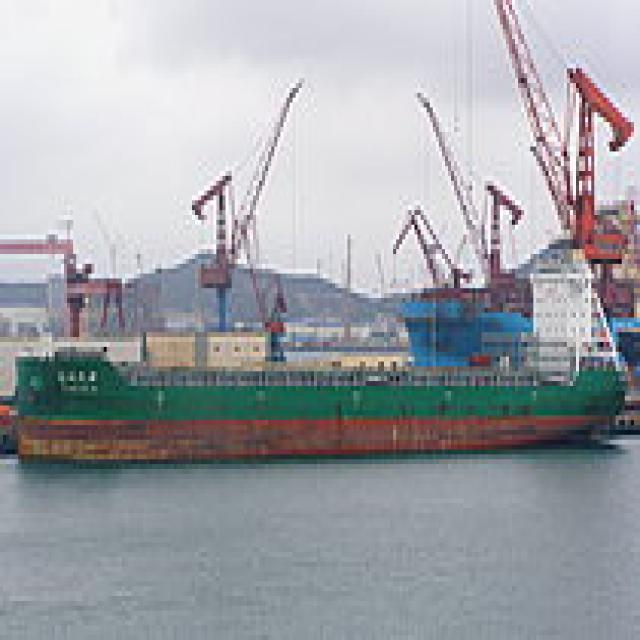Cargo: (9, 235, 628, 464)
